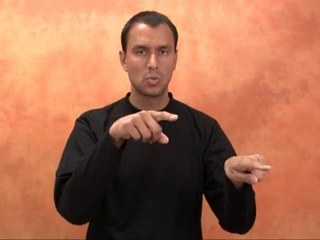go: (106, 101, 276, 189)
